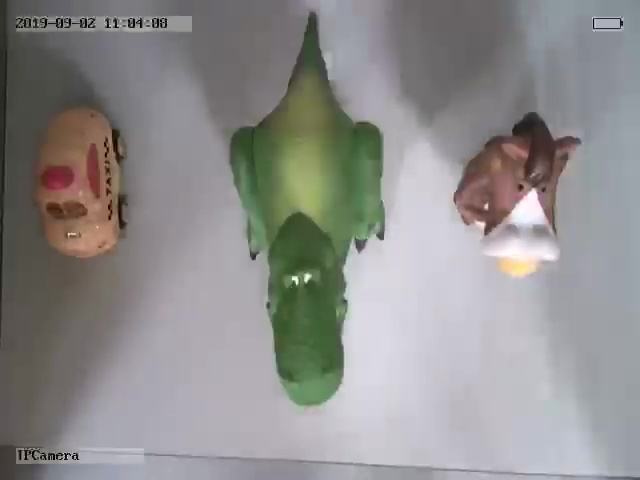car: (31, 105, 130, 258)
horse: (455, 113, 581, 281)
rex: (229, 11, 386, 409)
